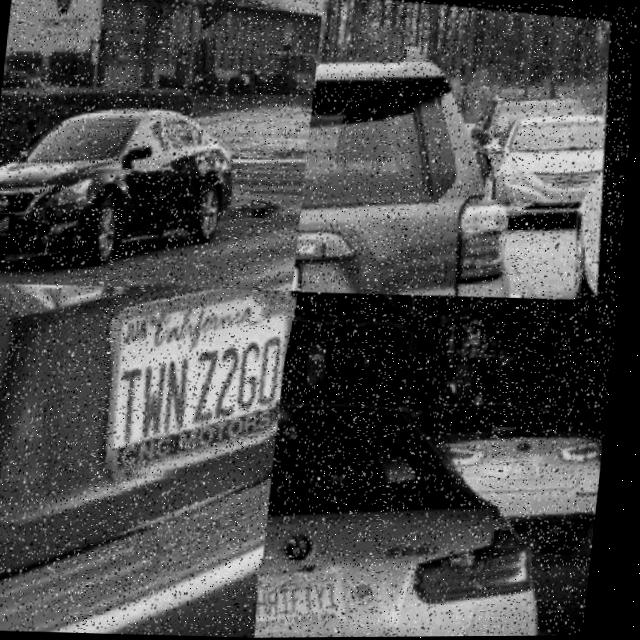LicensePlate: (117, 288, 301, 470), (266, 562, 361, 628), (0, 215, 17, 232)
